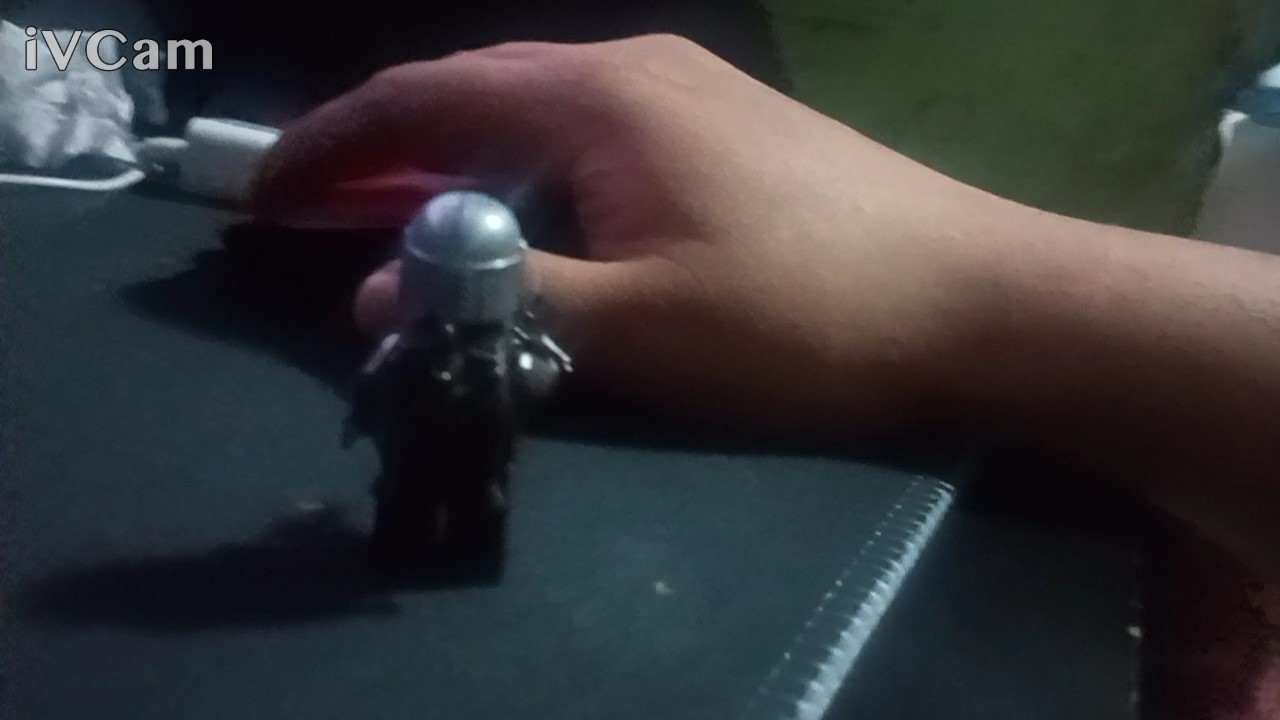mandalorian: (331, 191, 574, 605)
